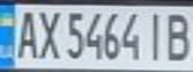4: (81, 8, 106, 61), (121, 9, 145, 62)
5: (63, 7, 84, 61)
6: (103, 9, 124, 61)
A: (9, 6, 42, 61)
B: (160, 9, 193, 62)
I: (142, 9, 169, 62)
X: (33, 6, 63, 61)
